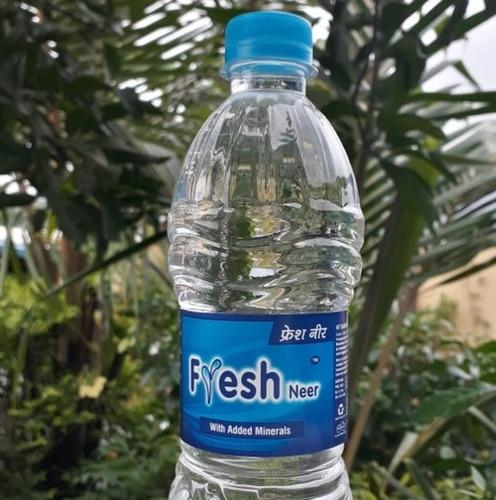bottle: (168, 9, 369, 500)
